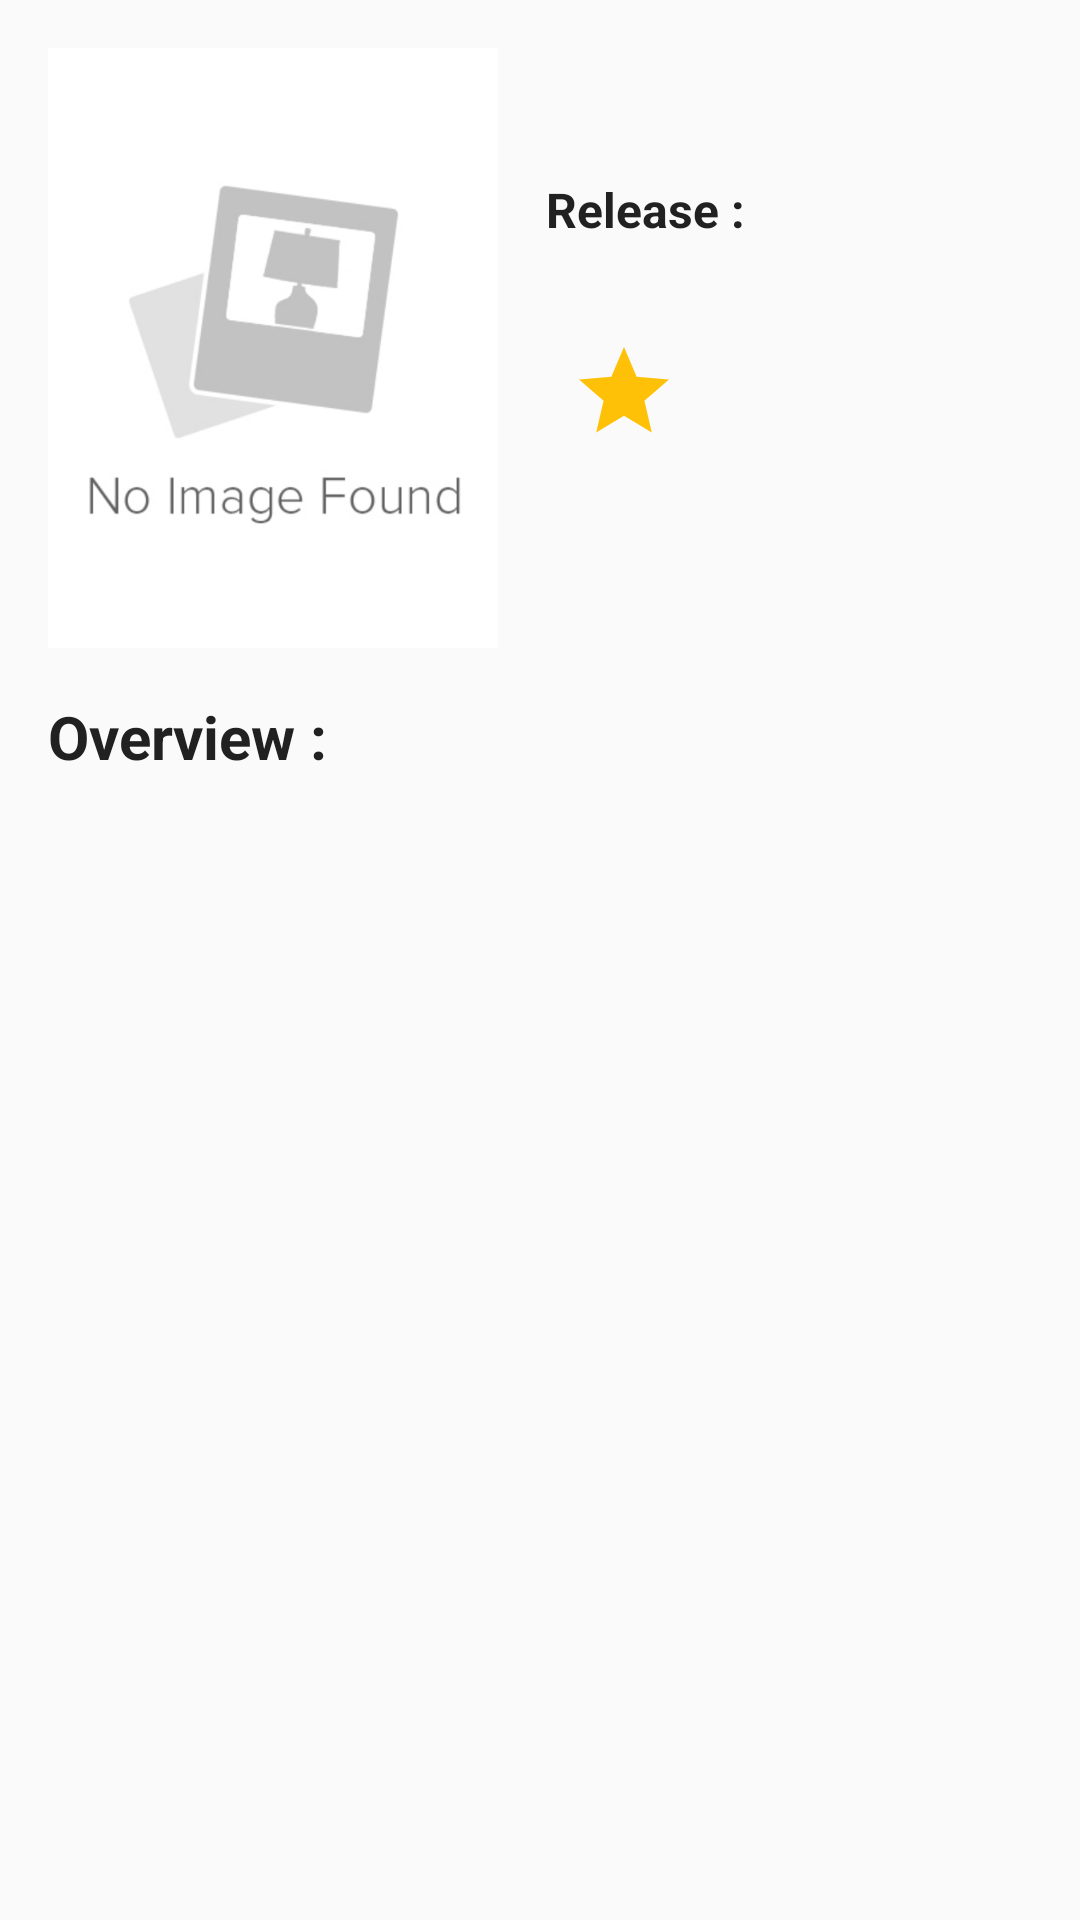

Icons on this 1080 x 1920 Android screen, each with its box as (x1, y1, x2, y2):
star yello: (579, 347, 669, 433)
